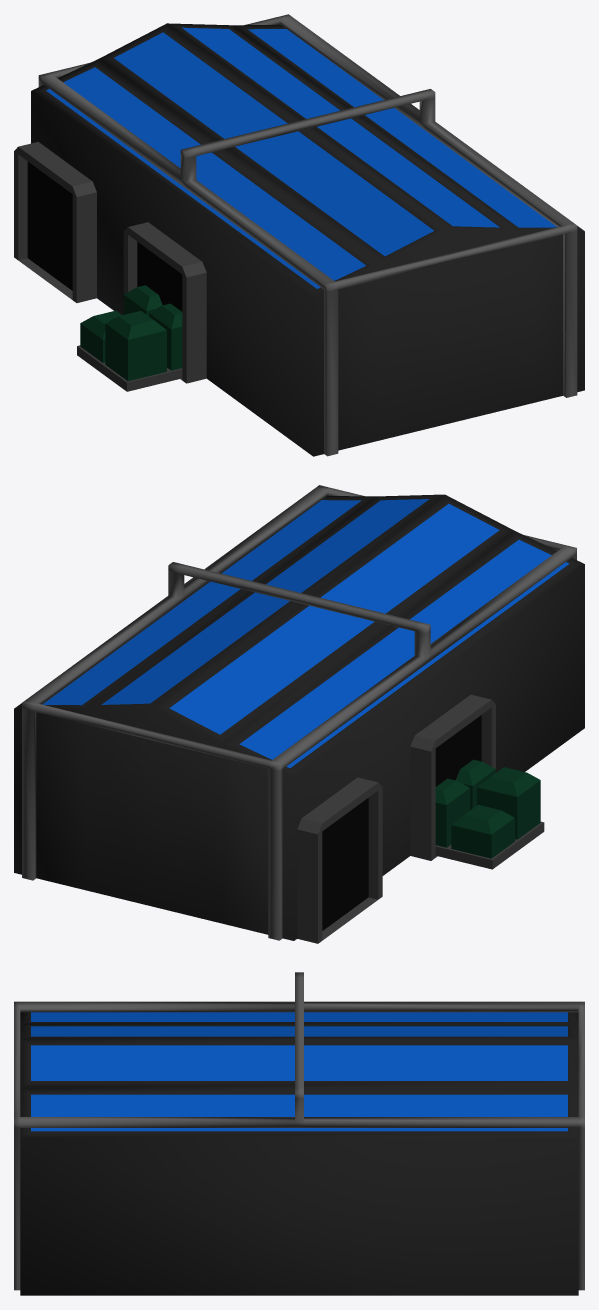
The model's file is NATO Supply Depot.obj.
3 renders of one model, top to bottom at view 1: azimuth 30°, elevation 25°; view 2: azimuth 150°, elevation 25°; view 3: azimuth 270°, elevation 25°, orthographic. The views are drawn at different scales.
Parts seen in each view (by area): view 1: SupplyDepot_Cube; view 2: SupplyDepot_Cube; view 3: SupplyDepot_Cube.
Part boxes in pixels (<box>): SupplyDepot_Cube: <box>14,14,584,456</box>; SupplyDepot_Cube: <box>14,485,584,943</box>; SupplyDepot_Cube: <box>14,972,584,1295</box>.
Size of the model in its own units: 6.35 by 3.51 by 9.2.
